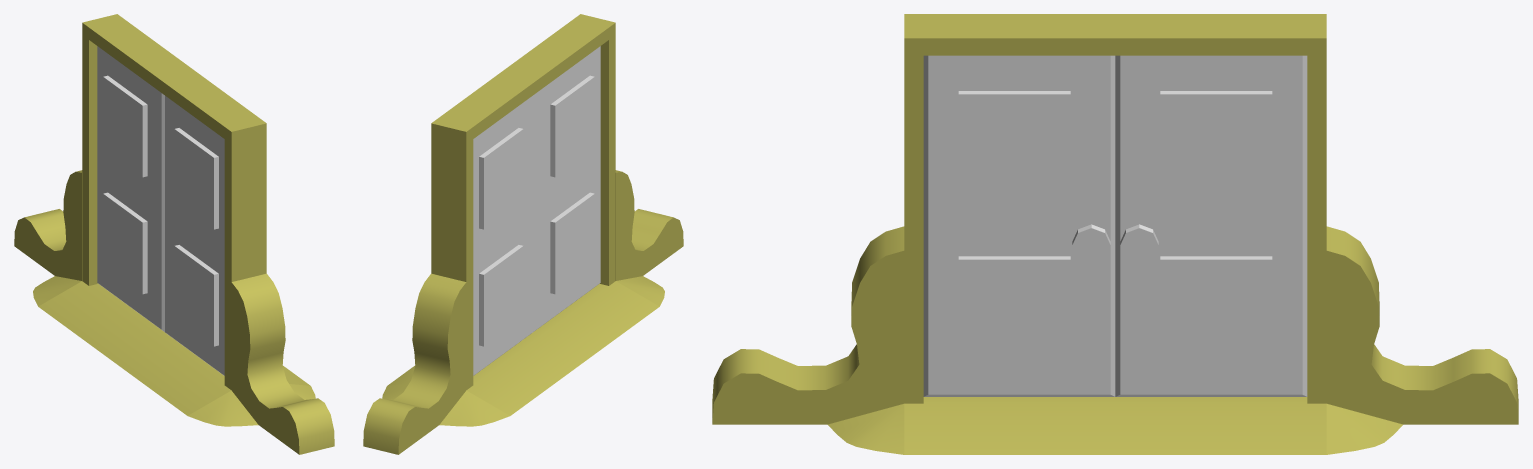
Rendered from PuzzleDoor.fbx.
3 renders of one model, left to right at view 1: azimuth 30°, elevation 25°; view 2: azimuth 150°, elevation 25°; view 3: azimuth 270°, elevation 25°, orthographic. The views are drawn at different scales.
Parts seen in each view (by area): view 1: Door_Base, DoorFrame, Door_Right, Door_Left, Bottom_Right, Bottom_Left, Top_Right, Top_Left; view 2: Door_Base, DoorFrame, Door_Left, Door_Right, Bottom_Left, Top_Left, Bottom_Right, Top_Right; view 3: Door_Base, Door_Right, Door_Left, DoorFrame, Top_Left, Bottom_Left, Bottom_Right, Top_Right, Knob_Left, Knob_Right.
Part boxes in pixels (x1,y1,x2,y2): Door_Base: [14, 170, 334, 454]; DoorFrame: [82, 14, 266, 389]; Door_Right: [97, 46, 164, 331]; Door_Left: [165, 96, 224, 375]; Bottom_Right: [103, 192, 147, 294]; Bottom_Left: [174, 245, 218, 346]; Top_Right: [103, 75, 147, 177]; Top_Left: [174, 128, 218, 229]; Door_Base: [363, 170, 683, 454]; DoorFrame: [431, 14, 615, 389]; Door_Left: [533, 46, 600, 331]; Door_Right: [473, 96, 532, 375]; Bottom_Left: [550, 192, 594, 294]; Top_Left: [550, 75, 594, 177]; Bottom_Right: [479, 245, 523, 346]; Top_Right: [479, 128, 523, 229]; Door_Base: [712, 226, 1518, 454]; Door_Right: [1115, 55, 1307, 396]; Door_Left: [923, 55, 1115, 396]; DoorFrame: [904, 14, 1326, 403]; Top_Left: [958, 91, 1070, 195]; Bottom_Left: [958, 256, 1070, 360]; Bottom_Right: [1160, 256, 1272, 360]; Top_Right: [1160, 91, 1272, 195]; Knob_Left: [1072, 224, 1110, 262]; Knob_Right: [1120, 224, 1158, 262].
Size of the model in its own units: 2.1 by 4.44 by 8.4.
